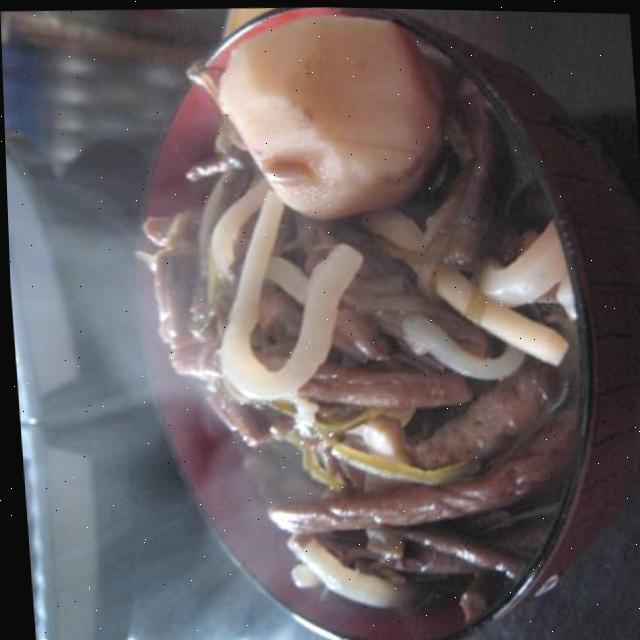蔬菜料理: (49, 1, 640, 640)
